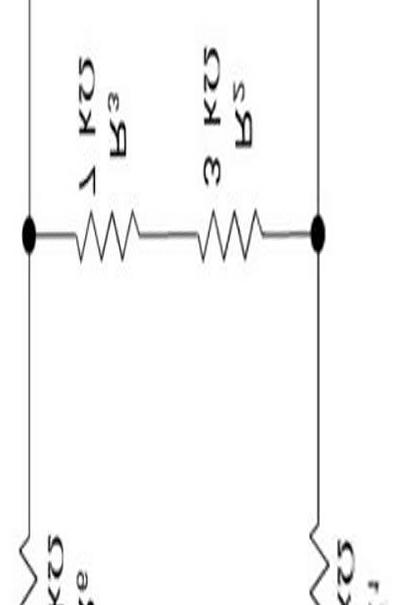resistor: (181, 194, 268, 280), (59, 206, 154, 270), (288, 509, 329, 595), (8, 522, 41, 604)
